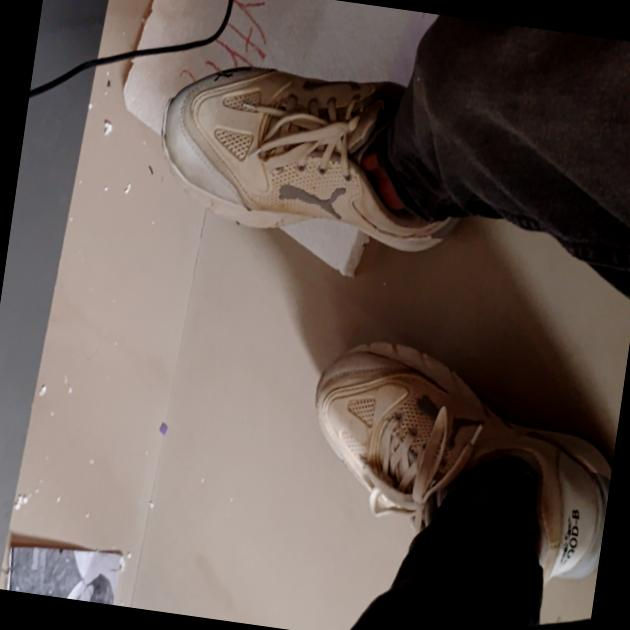shoes: (99, 0, 630, 598)
